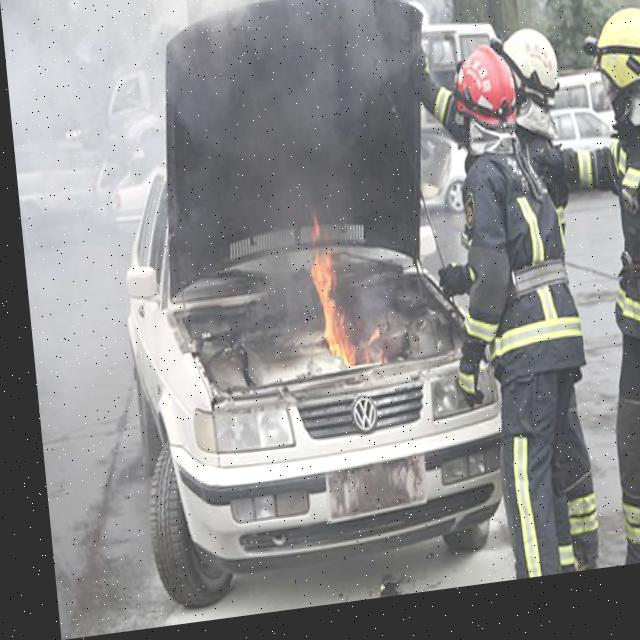Fire: (284, 212, 388, 398)
